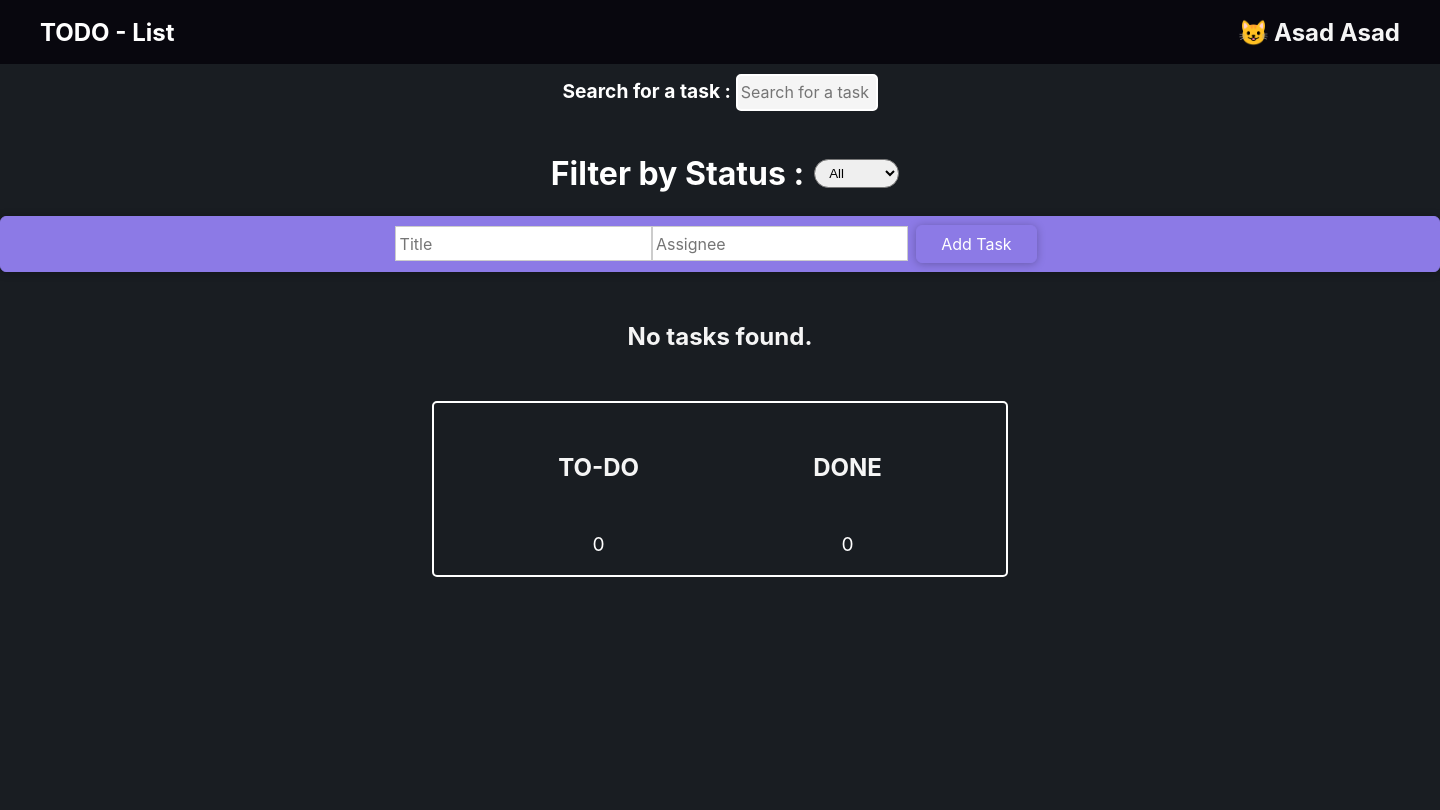
Test case: Test Done Update and Counter
This screenshot has width=1440, height=810.
Step 1. Click the button "Add Task" → (976, 244), box [916,225,1037,263]
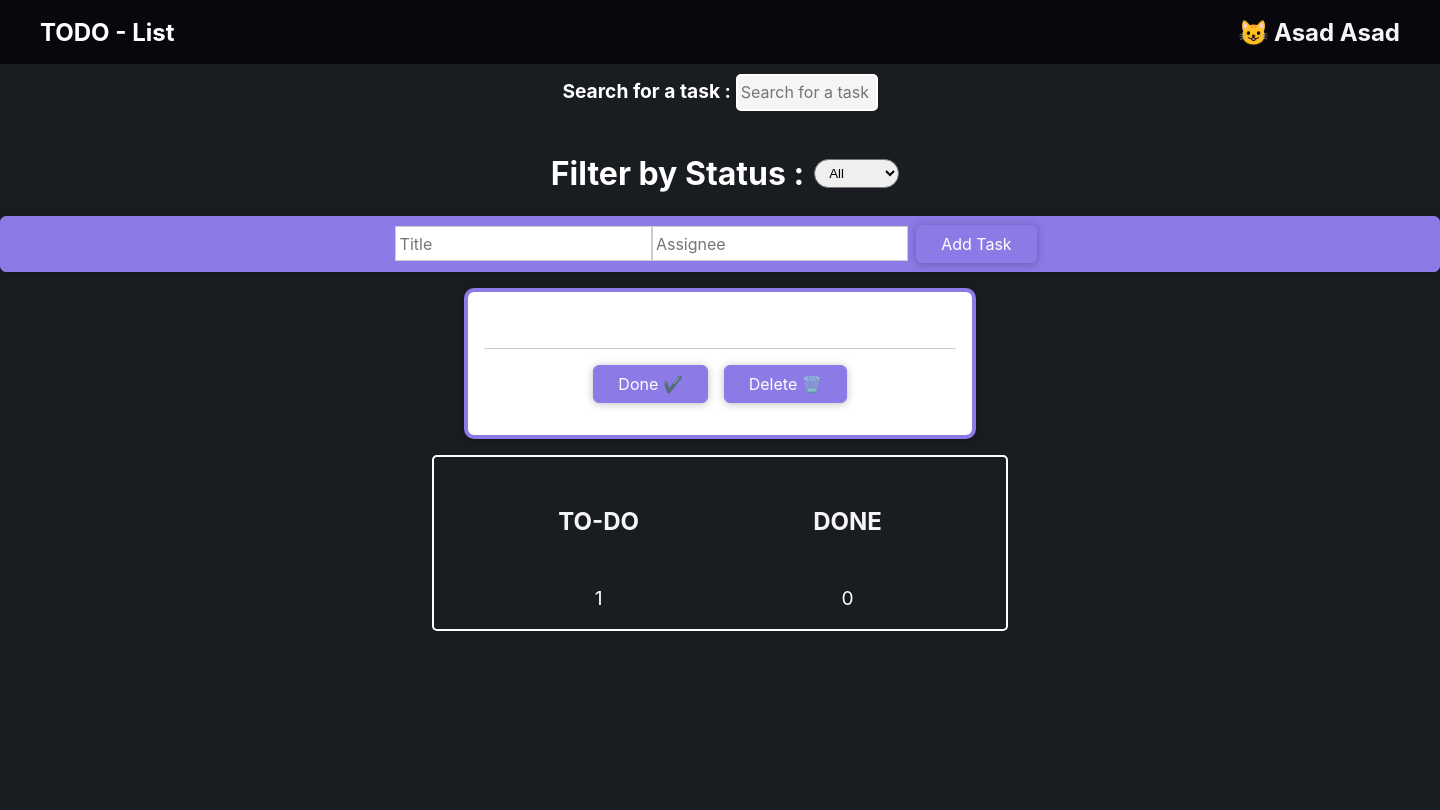
Step 2. Click the button "Done ✔️" → (650, 384), box [593,365,708,403]
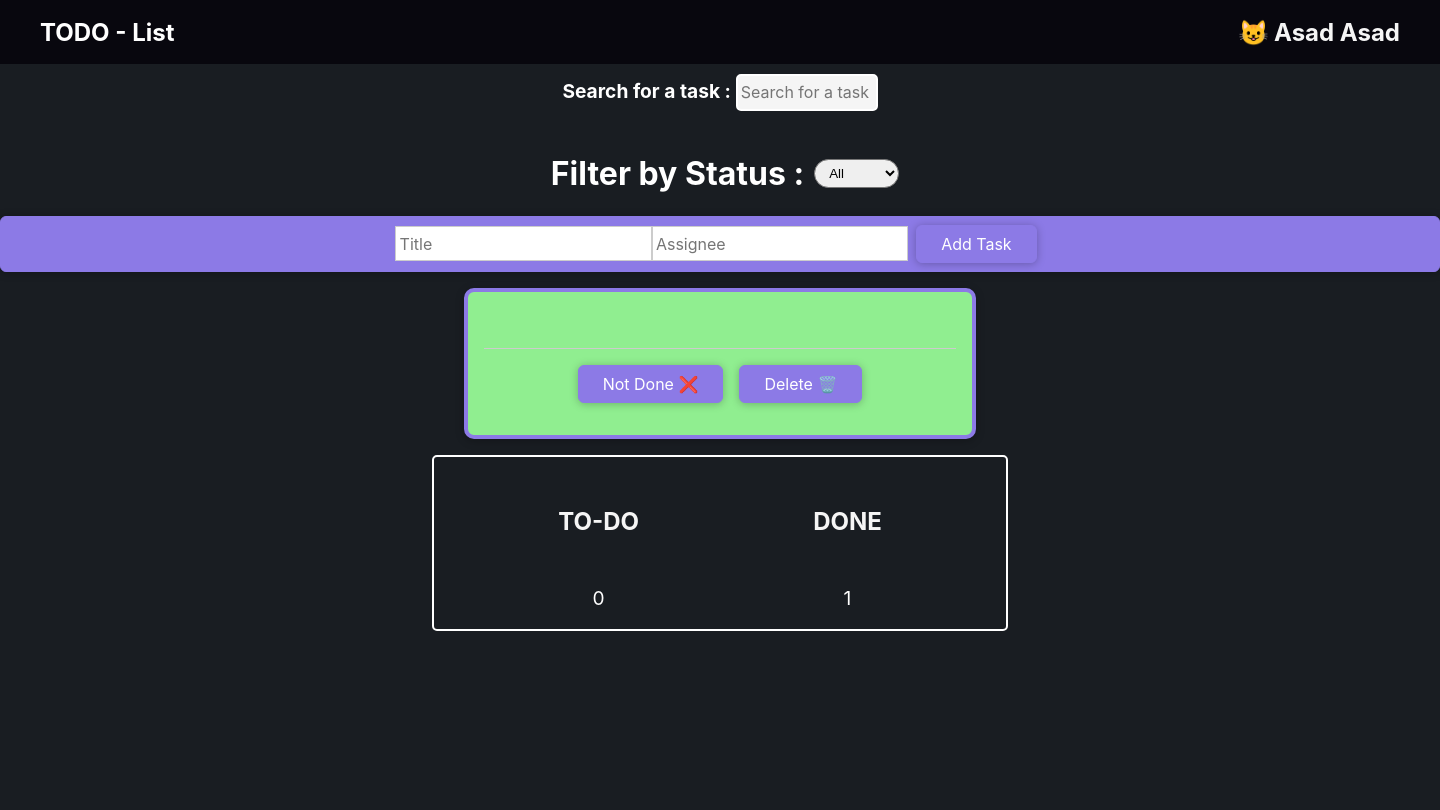
Check: the text "1" is shown, box [844,586,851,610]
